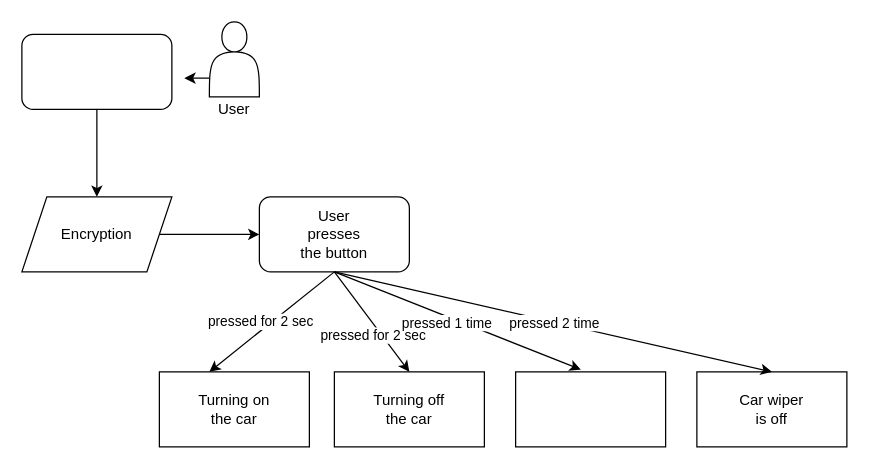
This 869x469 diagram has some shape labels left out. Each missing label, with the centre of its shape:
"Button pressed by the user" goes at (96,71).
"Car wiper is on" goes at (590,409).
